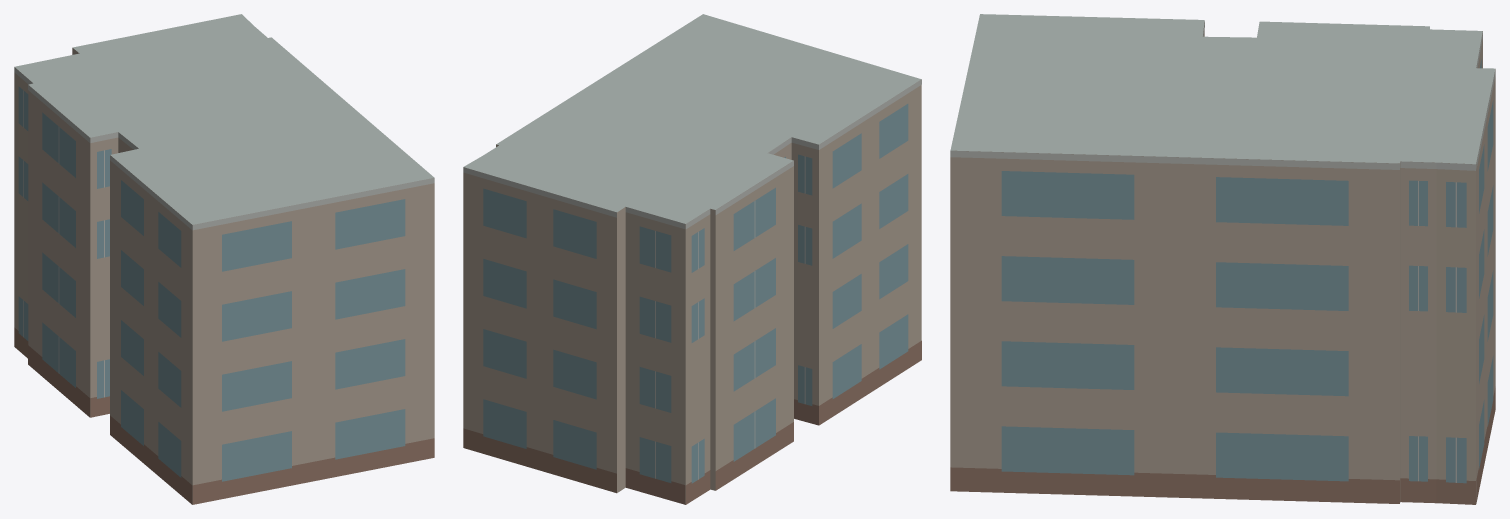
File: survey-upis-32978507.glb
The picture shows the model from 3 angles, left to right: view 1: azimuth 30°, elevation 25°; view 2: azimuth 150°, elevation 25°; view 3: azimuth 270°, elevation 25°; orthographic projection. The views are drawn at different scales.
Visible parts, largest first — view 1: survey-upis-32978507.tmp; view 2: survey-upis-32978507.tmp; view 3: survey-upis-32978507.tmp.
Part boxes in pixels (x1,y1,x2,y2): survey-upis-32978507.tmp: (14,14,434,504); survey-upis-32978507.tmp: (463,14,921,504); survey-upis-32978507.tmp: (950,14,1495,504).
Bounding box in the file's own units: 11.93 × 12.6 × 18.29.
